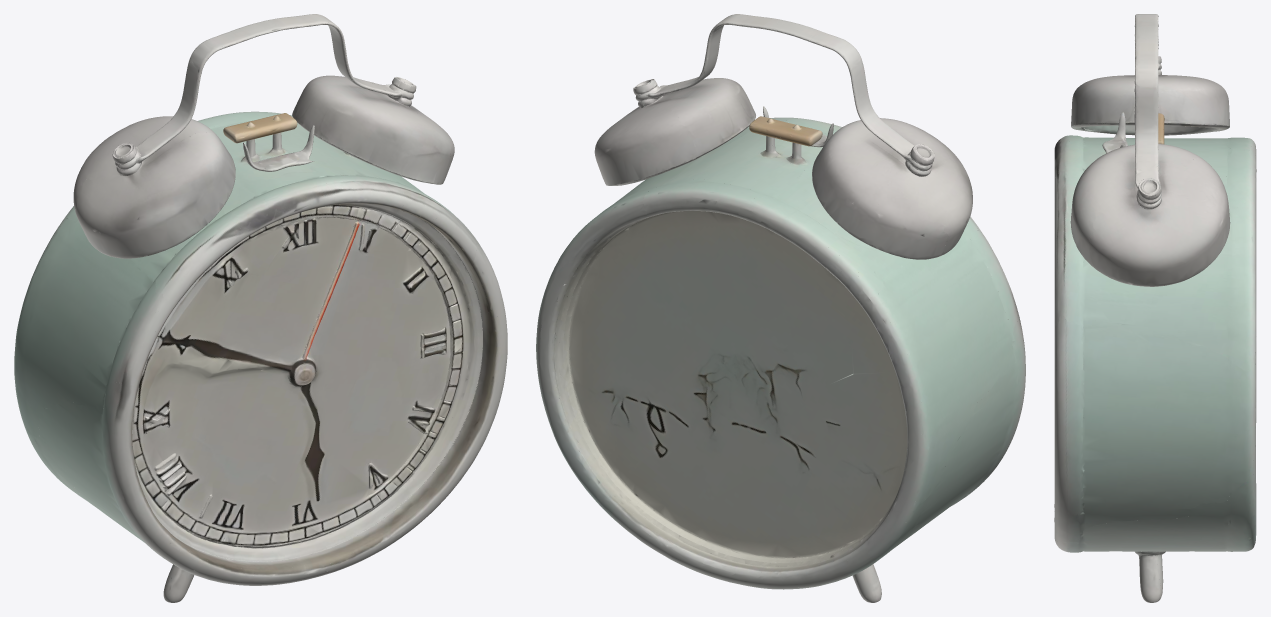
The model's file is photo_3d.glb.
3 renders of one model, left to right at view 1: azimuth 30°, elevation 25°; view 2: azimuth 150°, elevation 25°; view 3: azimuth 270°, elevation 25°, orthographic. The views are drawn at different scales.
Parts seen in each view (by area): view 1: model; view 2: model; view 3: model.
Boxes of the visible parts, x1,y1,x2,y2 form: model: [14, 14, 507, 602]; model: [536, 14, 1025, 602]; model: [1054, 14, 1256, 602].
Bounding box in the file's own units: 1.42 × 1.9 × 0.6618.
1 material, 1 textured.
